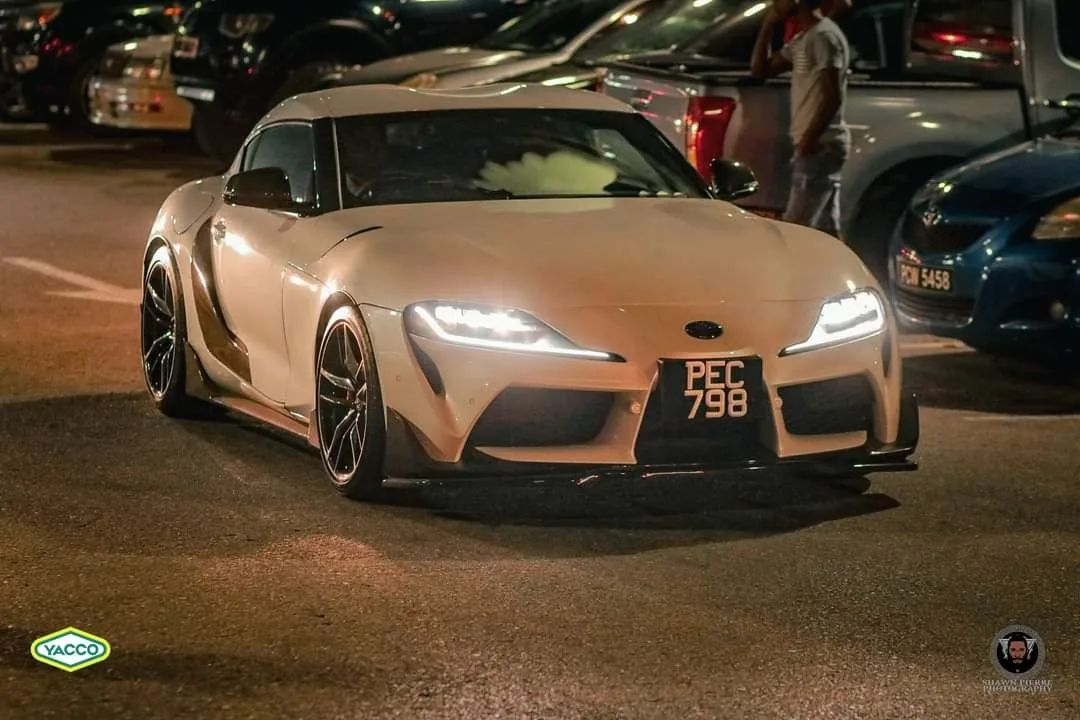License-Plate: (663, 360, 760, 422), (897, 261, 956, 282)
